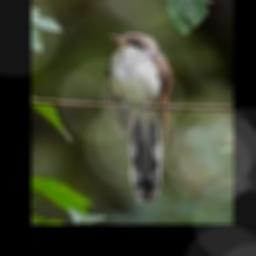Cuckoo: (104, 32, 171, 205)
